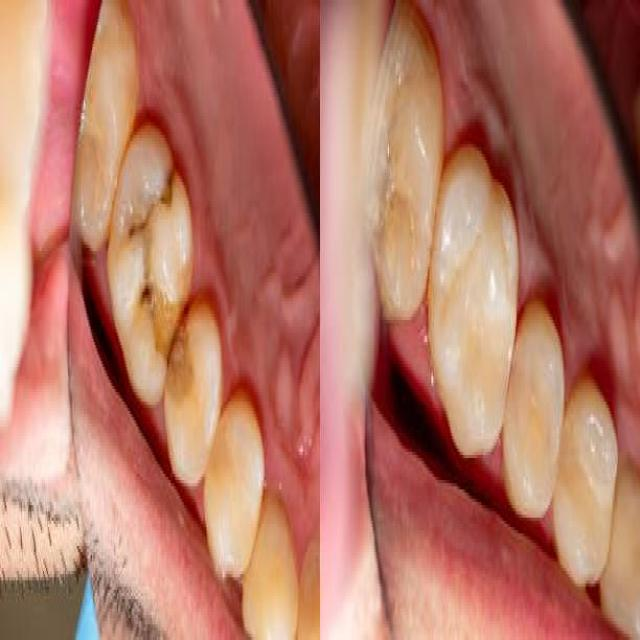caries: (123, 157, 186, 351)
